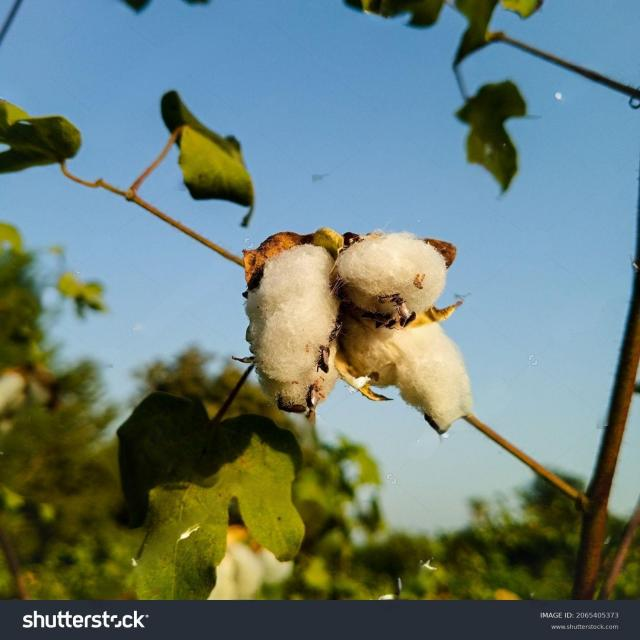Leaf: (237, 204, 479, 445)
